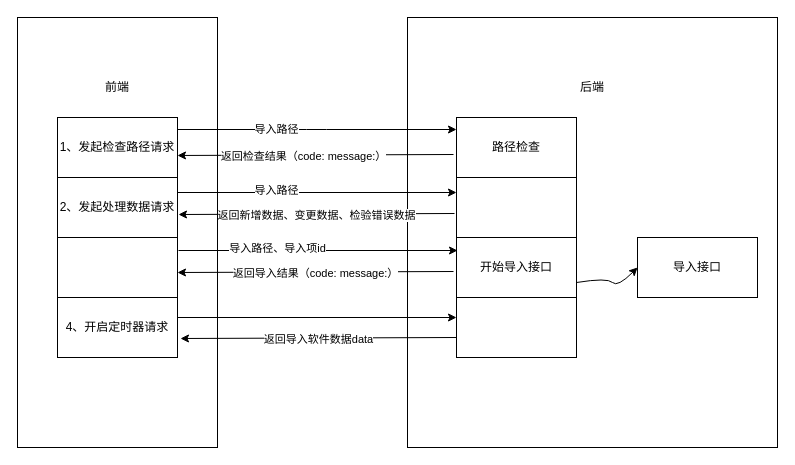
The diagram is 795 pixels wide and 465 high, and some of its shapes have lost their labels. Each missing label, with the centre of its shape:
3、发起导入请求: the point at 117,267
导入路径软件目录数据处理: the point at 516,207
获取软件导入状态接口: the point at 516,327
